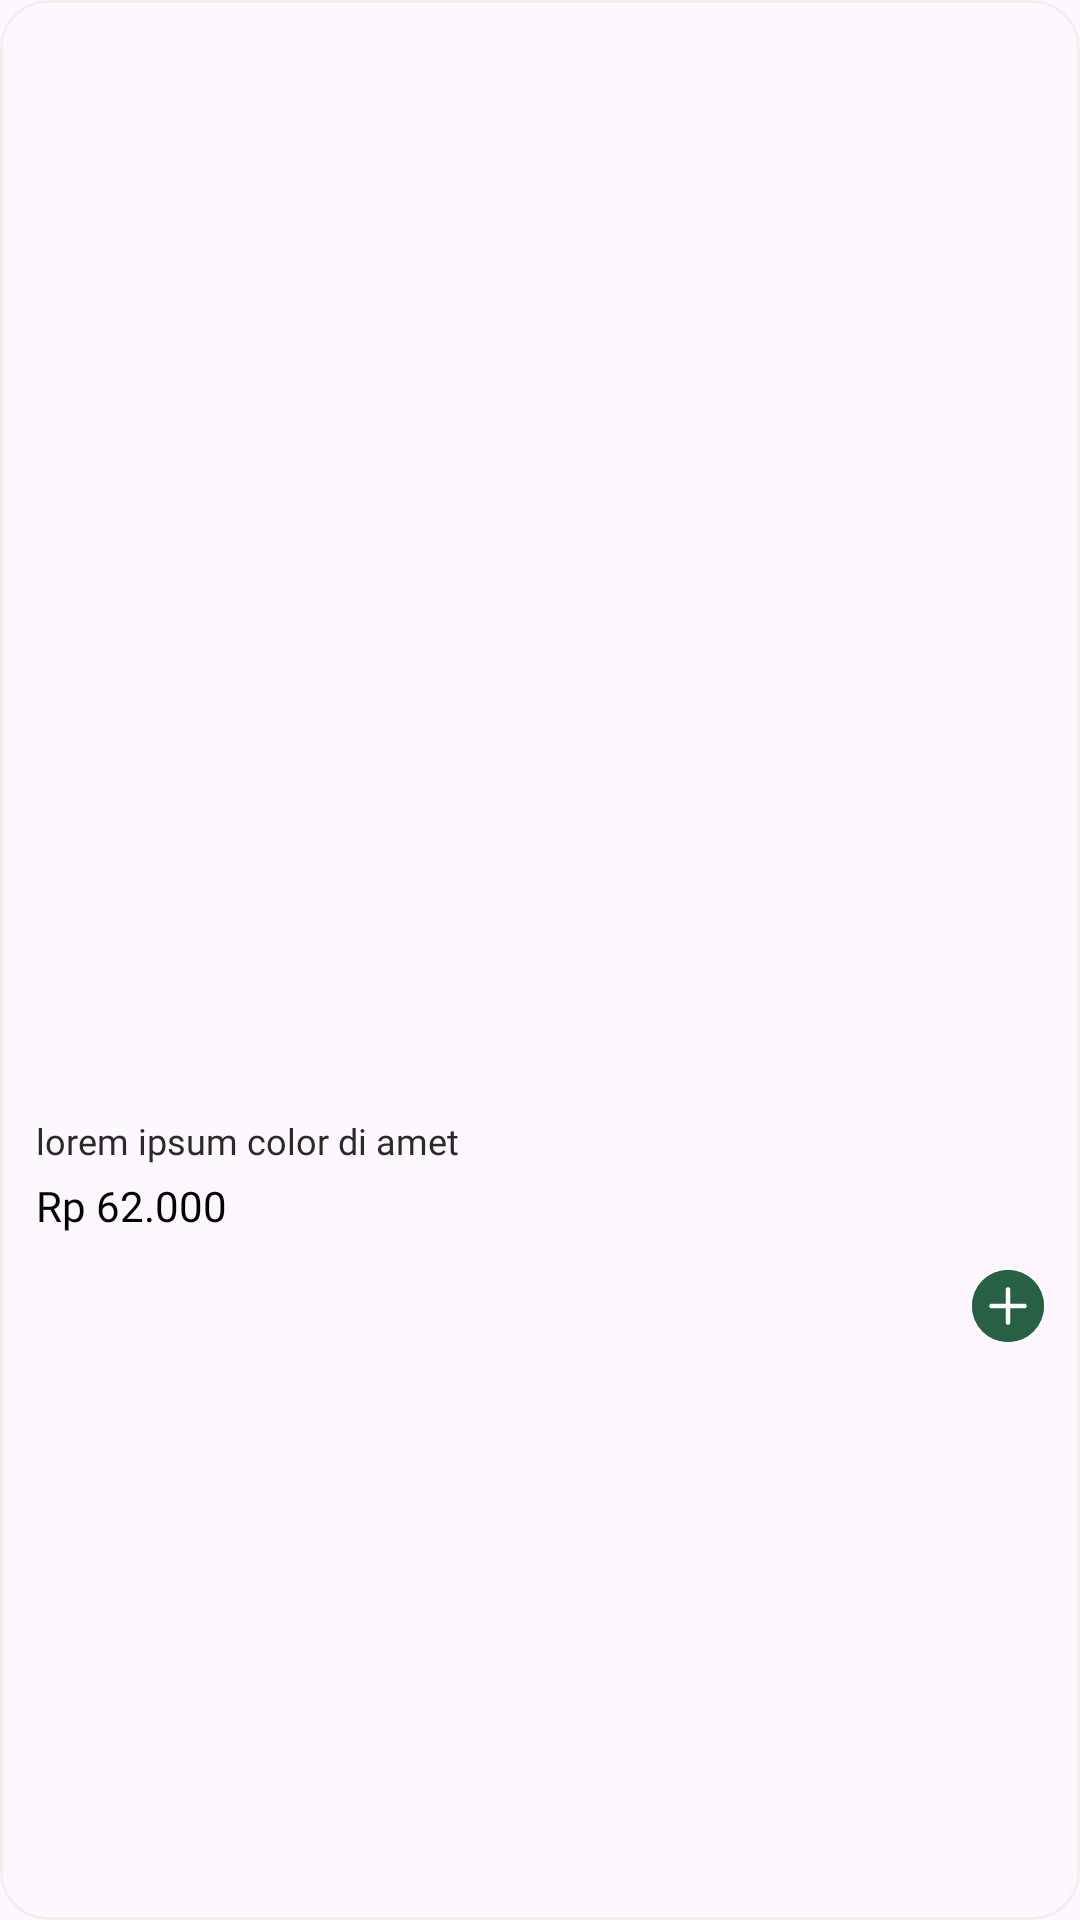

Screen size 1080w x 1920h. Icon name, then its center in pixels as [x,y]:
plus: [1008,1306]
